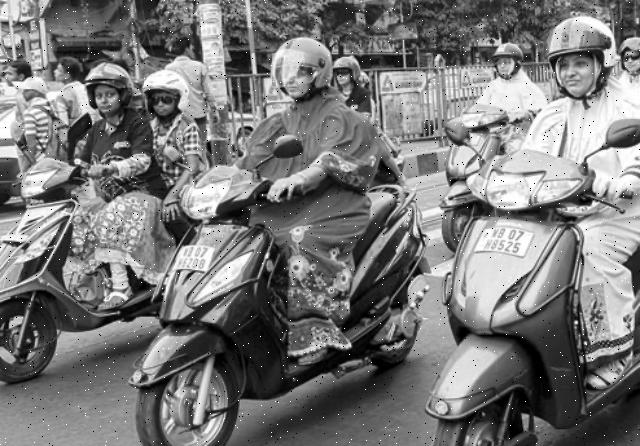With Helmet: (542, 12, 622, 108), (264, 30, 340, 110), (76, 63, 142, 123), (142, 66, 192, 122), (482, 38, 522, 80), (331, 52, 364, 96), (620, 30, 640, 76)
